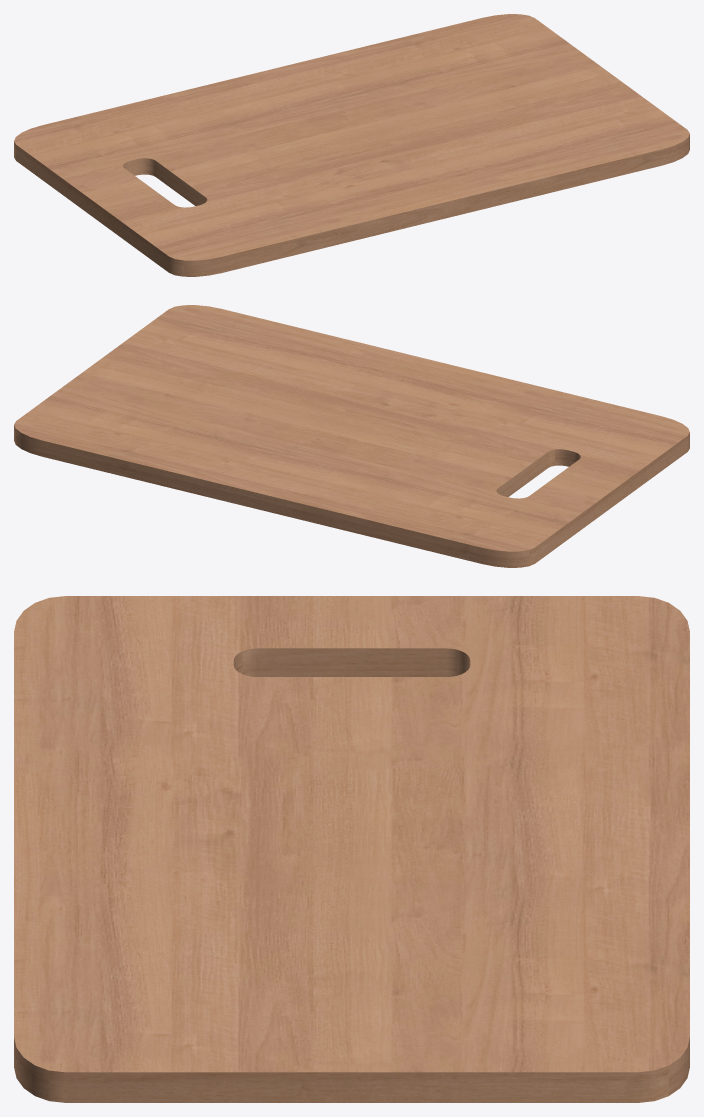
Rendered from board.obj.
The picture shows the model from 3 angles, top to bottom: view 1: azimuth 30°, elevation 25°; view 2: azimuth 150°, elevation 25°; view 3: azimuth 270°, elevation 25°; orthographic projection. The views are drawn at different scales.
Visible parts, largest first — view 1: board; view 2: board; view 3: board.
Boxes of the visible parts, x1,y1,x2,y2 form: board: [14, 14, 689, 276]; board: [14, 305, 689, 567]; board: [14, 596, 689, 1102].
Bounding box in the file's own units: 0.5 × 0.015 × 0.3.
1 material, 1 textured.
